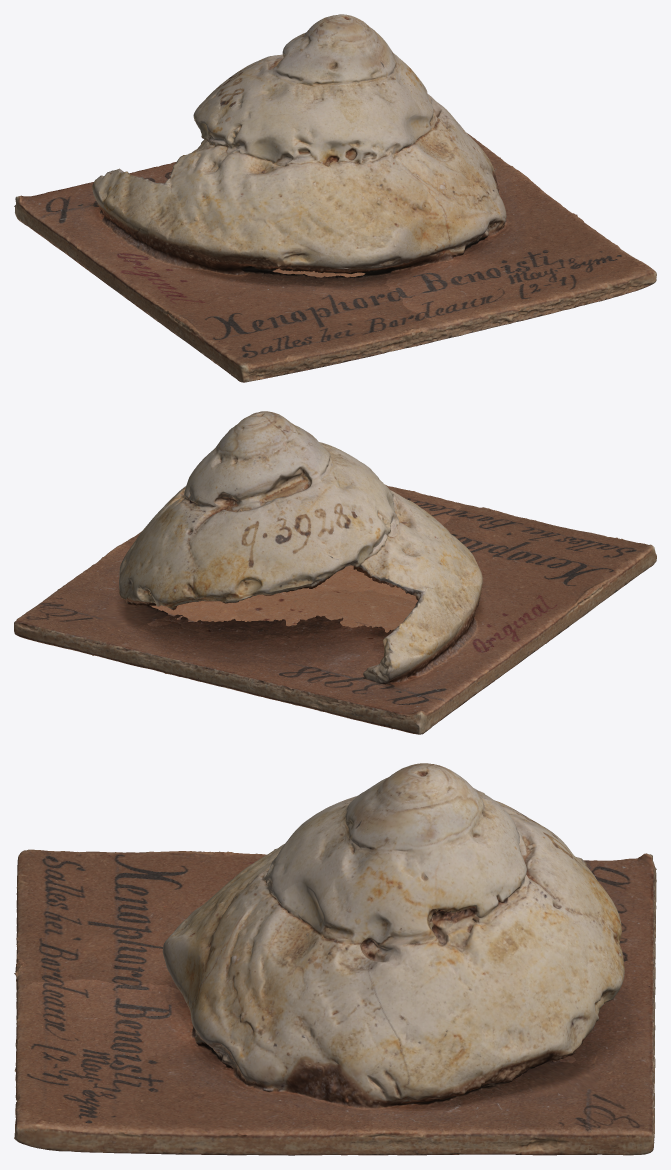
File: EWS0016234.glb
3 renders of one model, top to bottom at view 1: azimuth 30°, elevation 25°; view 2: azimuth 150°, elevation 25°; view 3: azimuth 270°, elevation 25°, orthographic. The views are drawn at different scales.
Parts seen in each view (by area): view 1: input; view 2: input; view 3: input.
Boxes of the visible parts, x1,y1,x2,y2 form: input: (14,14,656,382); input: (14,411,656,734); input: (14,763,656,1155).
Size of the model in its own units: 0.6005 by 0.282 by 0.5911.
Materials: 1 (1 with a texture image).
